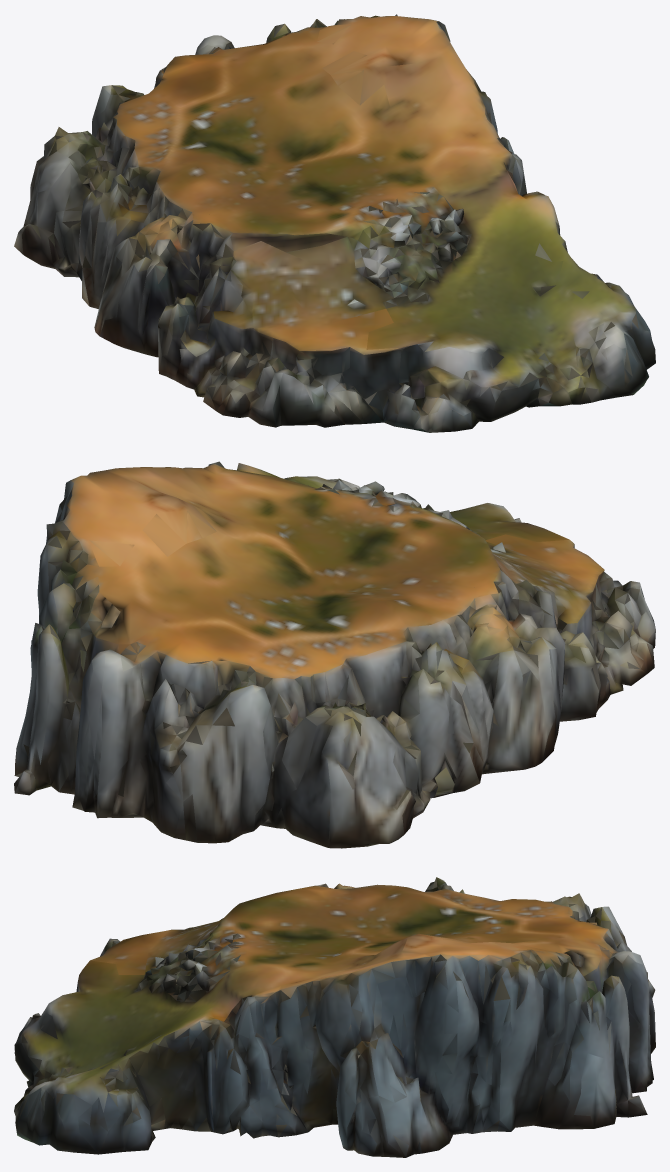
File: AnchorIsland2_0.5mb.fbx
The picture shows the model from 3 angles, top to bottom: view 1: azimuth 30°, elevation 25°; view 2: azimuth 150°, elevation 25°; view 3: azimuth 270°, elevation 25°; orthographic projection. The views are drawn at different scales.
Visible parts, largest first — view 1: Mesh_0; view 2: Mesh_0; view 3: Mesh_0.
Boxes of the visible parts, left/top/right/bottom form: Mesh_0: left=14, top=14, right=655, bottom=432; Mesh_0: left=14, top=461, right=655, bottom=848; Mesh_0: left=14, top=877, right=655, bottom=1157.
Size of the model in its own units: 142 by 66.41 by 200.
Materials: 1 (1 with a texture image).
